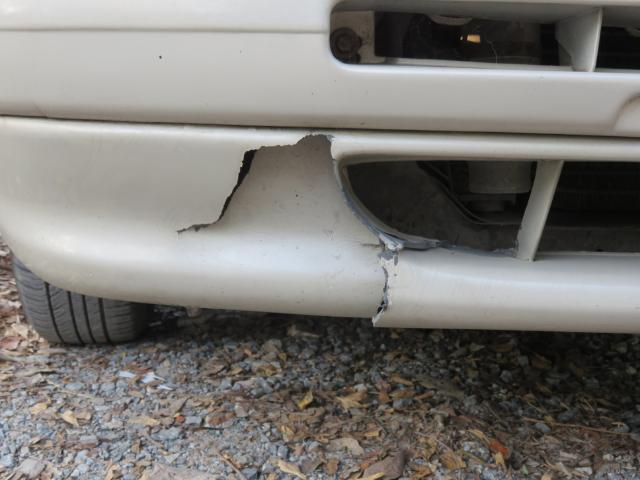Bumper: (81, 99, 462, 341)
